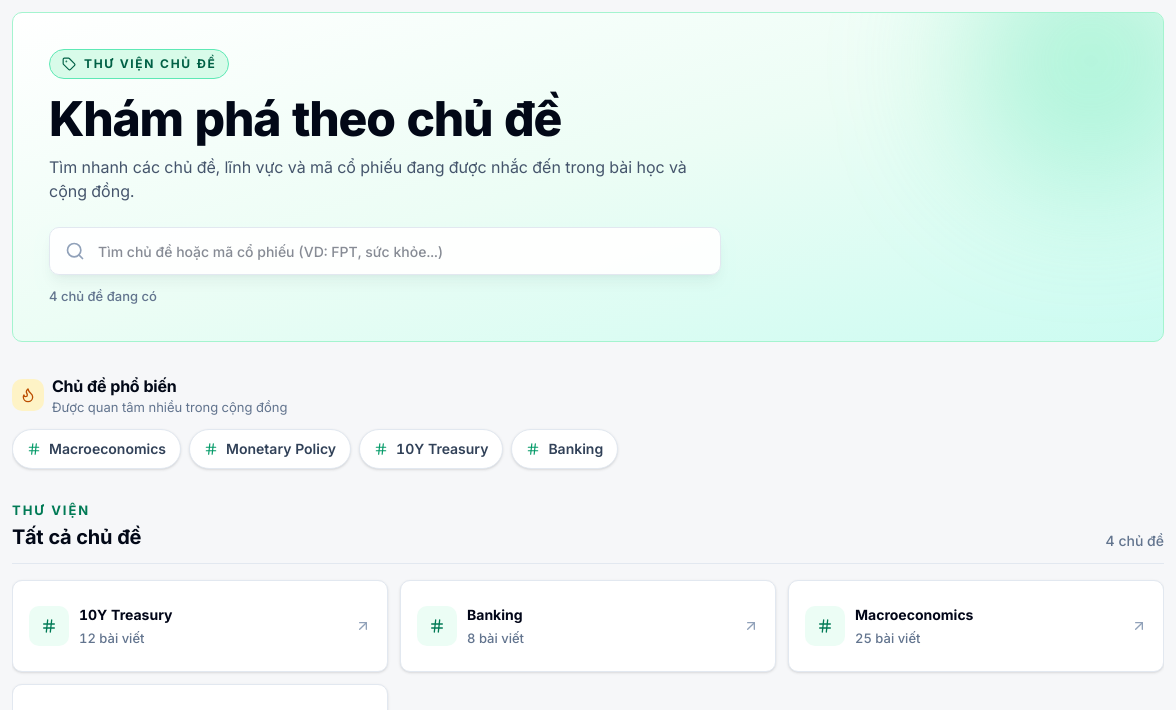
Test: TagsDirectoryView Component › renders contextual empty state when no tags match search keyword
This screenshot has width=1176, height=710.
Type "NonexistentTag" into the search field with test id "tags-search-input". click: [385, 251]
box: [49, 227, 721, 275]
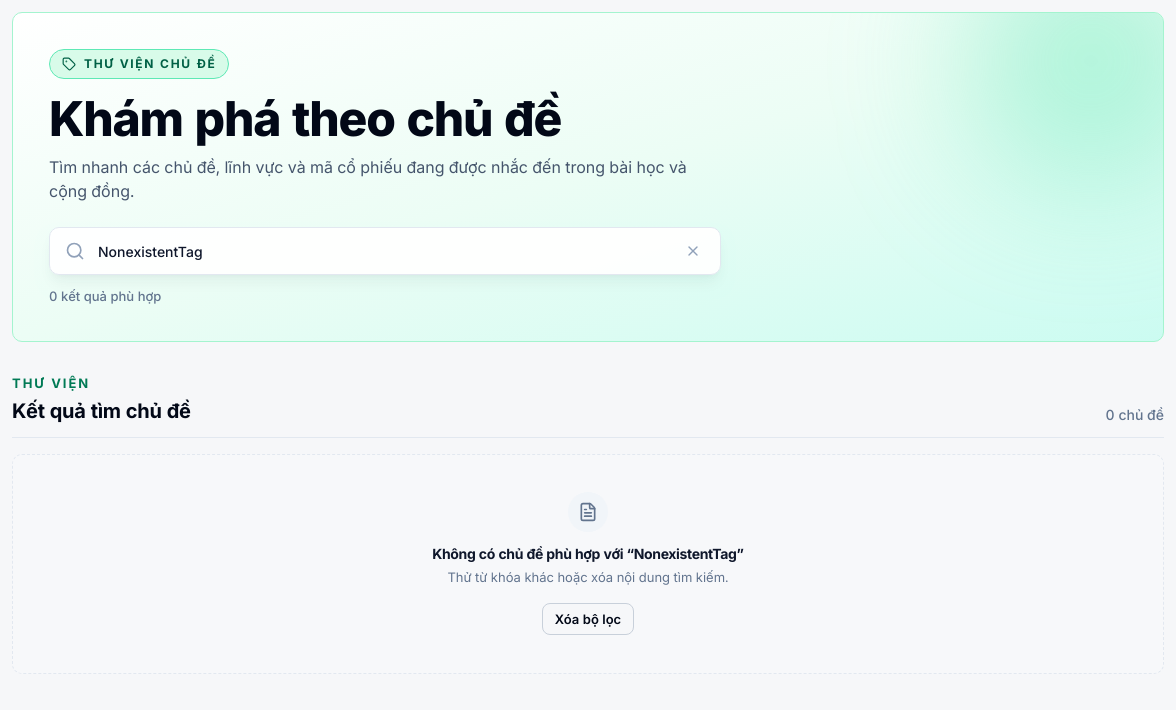
Result: the heading "Không có chủ đề phù hợp với “NonexistentTag”" is shown at [432, 544, 744, 564]
